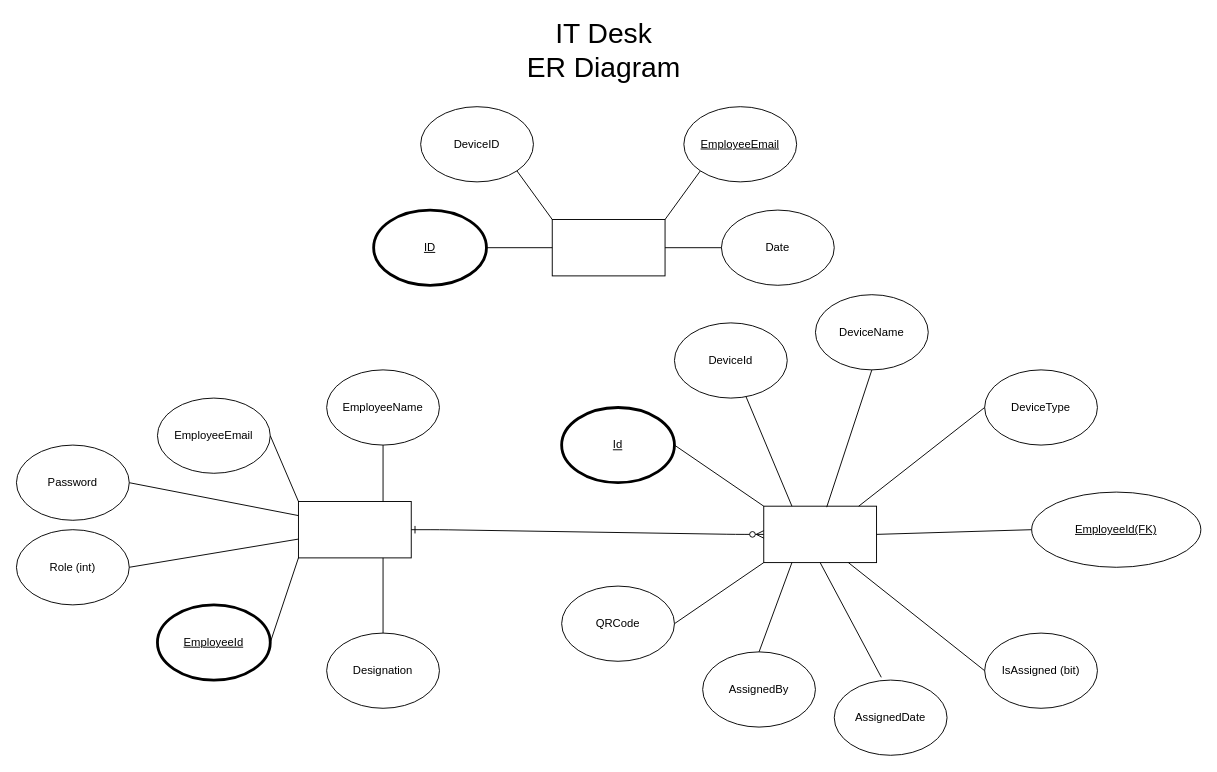
Image size: 1217x772. Some labels were removed from this diagram. Here are the shapes that lost their labels. From the top down, the centre of each, then its label:
At (x=608, y=247): "AuditTrail".
At (x=354, y=529): "EmployeeInfo".
At (x=820, y=534): "DeviceInfo".
